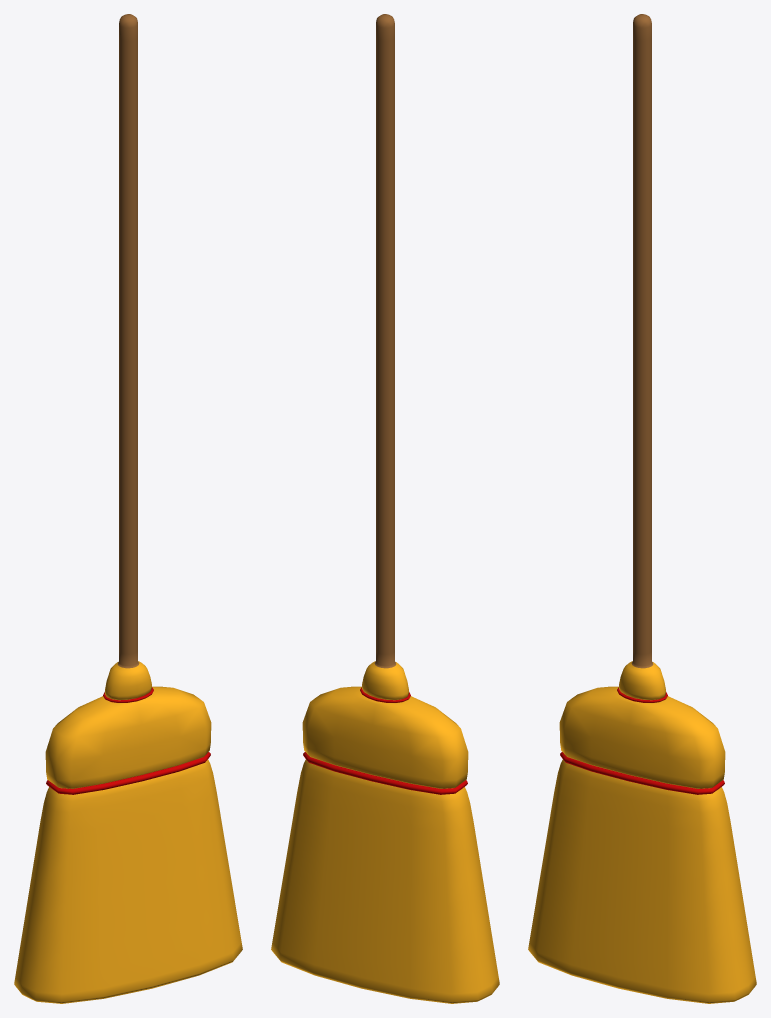
File: broom_obj.obj
3 views of the same model, side by side, from view 1: azimuth 30°, elevation 25°; view 2: azimuth 150°, elevation 25°; view 3: azimuth 330°, elevation 25° (orthographic).
Parts seen in each view (by area): view 1: metla; view 2: metla; view 3: metla.
Boxes of the visible parts, left/top/right/bottom form: metla: left=14, top=14, right=242, bottom=1003; metla: left=271, top=14, right=499, bottom=1003; metla: left=528, top=14, right=756, bottom=1003.
Bounding box in the file's own units: 5.45 × 23.32 × 2.15.
